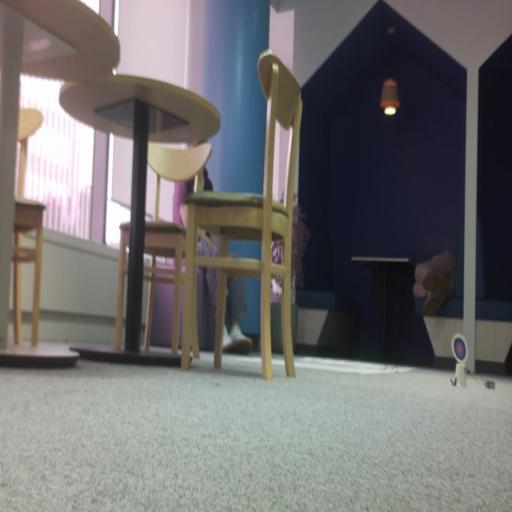target: (452, 334, 468, 365)
